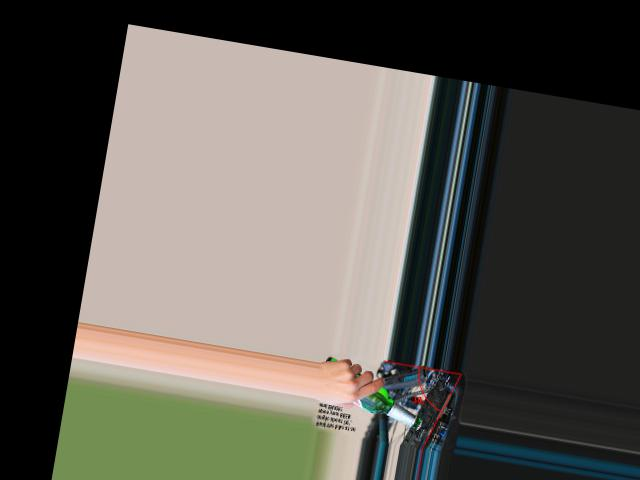beer: (317, 355, 432, 430)
